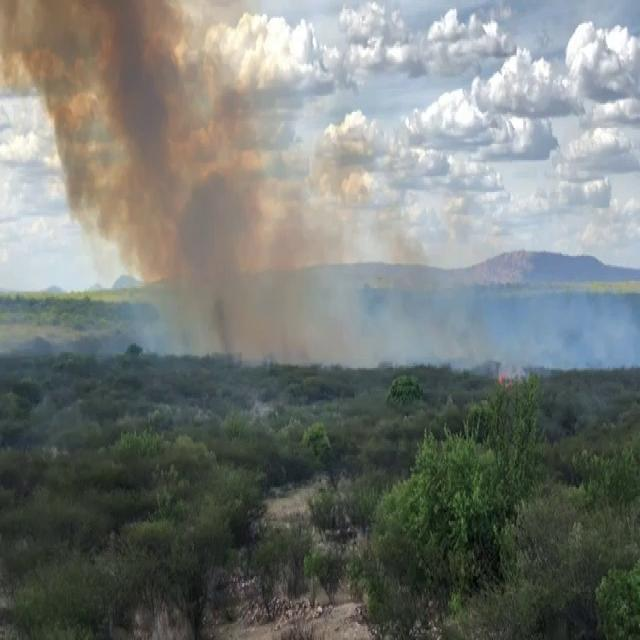Smoke: (14, 4, 356, 362), (380, 212, 630, 364)
